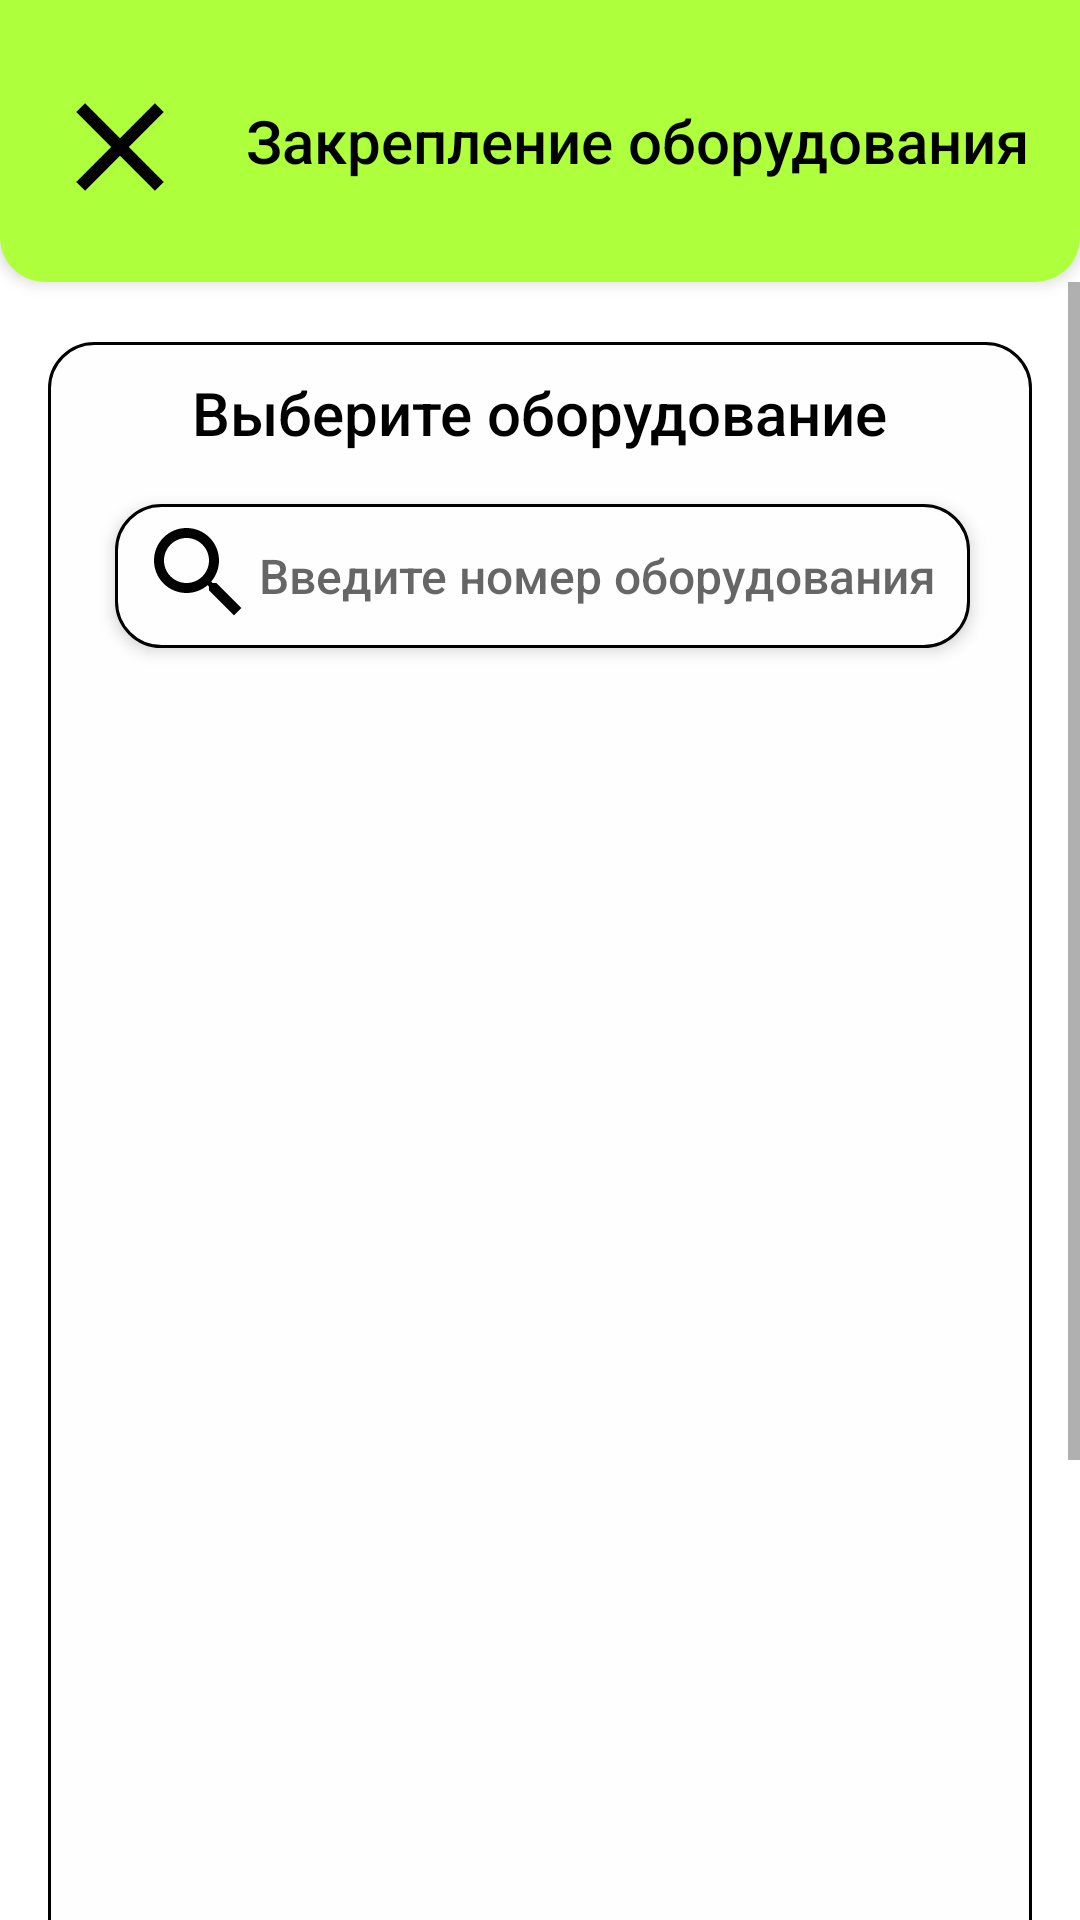

Named icons in this screenshot (1080w x 1920h) and their centers, [x,y]:
кнопка выхода: [120,147]
Поиск: [197,571]
